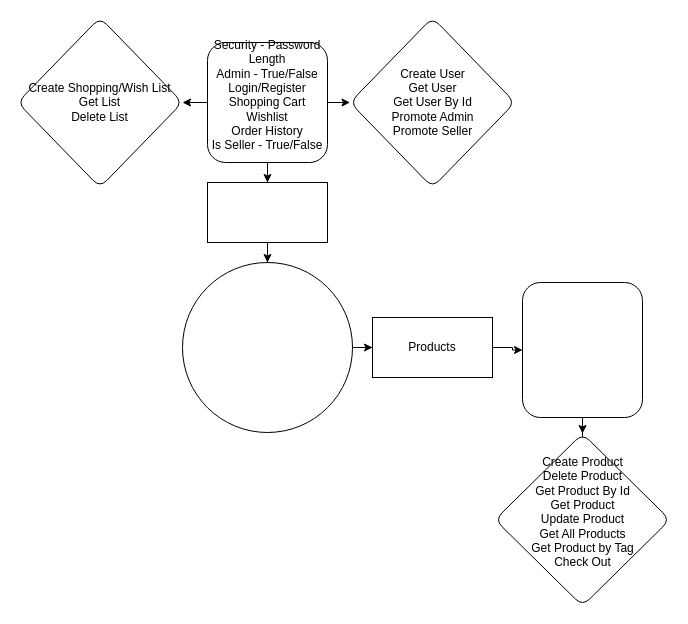
This 688x624 diagram has some shape labels left out. Each missing label, with the centre of its shape:
Name Description Company(?) Company Page(?) Tags Price Image Reviews Quantity: (x=582, y=350)
Users: (x=267, y=212)
Users Products Product Tags: (x=267, y=347)
